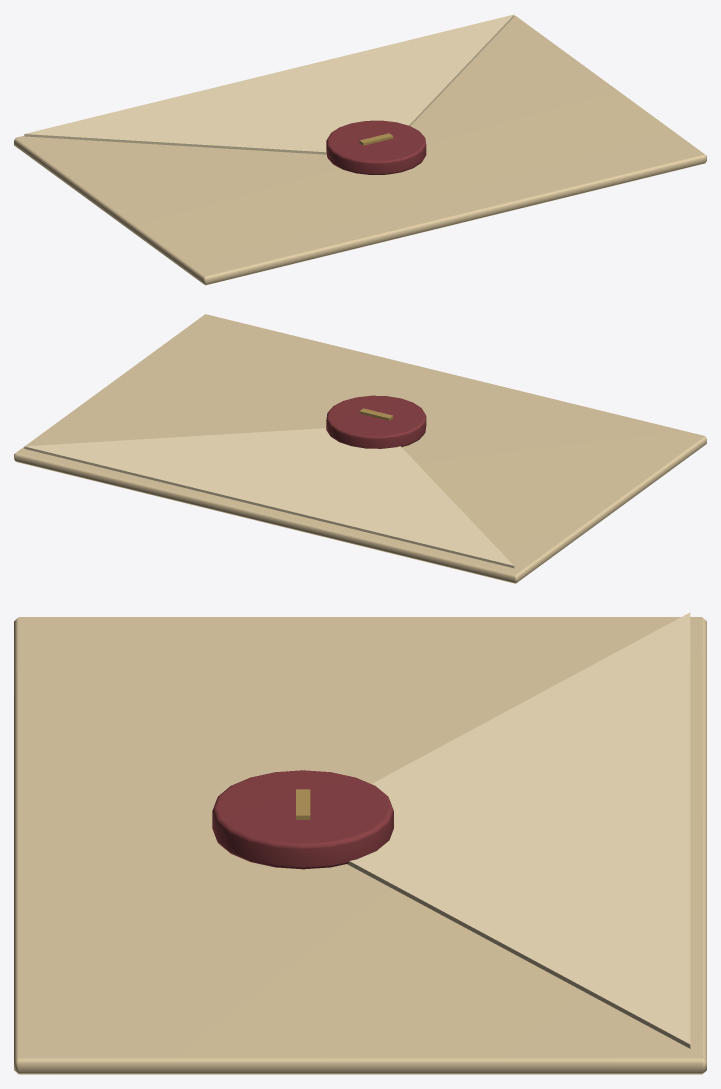
The model's file is rpg-mansion-letter-01.glb.
The picture shows the model from 3 angles, top to bottom: view 1: azimuth 30°, elevation 25°; view 2: azimuth 150°, elevation 25°; view 3: azimuth 270°, elevation 25°; orthographic projection. The views are drawn at different scales.
Parts seen in each view (by area): view 1: rpg-mansion-letter-01; view 2: rpg-mansion-letter-01; view 3: rpg-mansion-letter-01.
Boxes of the visible parts, <box> form: rpg-mansion-letter-01: <box>14,14,706,285</box>; rpg-mansion-letter-01: <box>14,314,706,583</box>; rpg-mansion-letter-01: <box>14,612,706,1074</box>.
Size of the model in its own units: 0.22 by 0.012 by 0.145.
